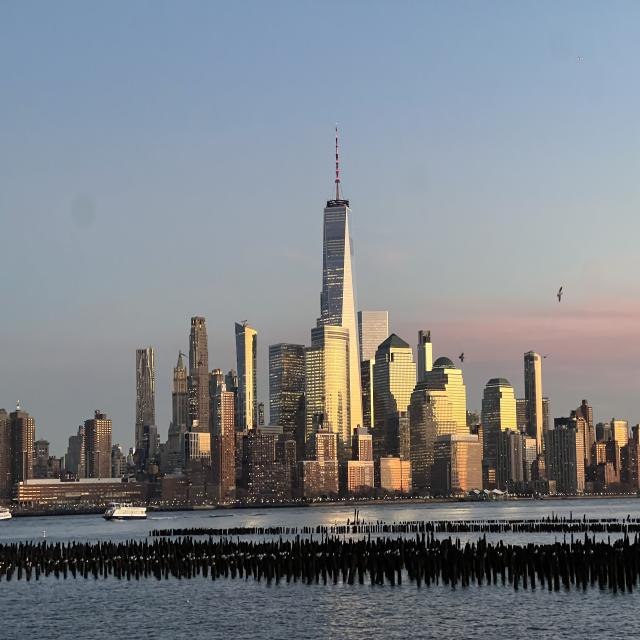WTC: (321, 124, 354, 327)
